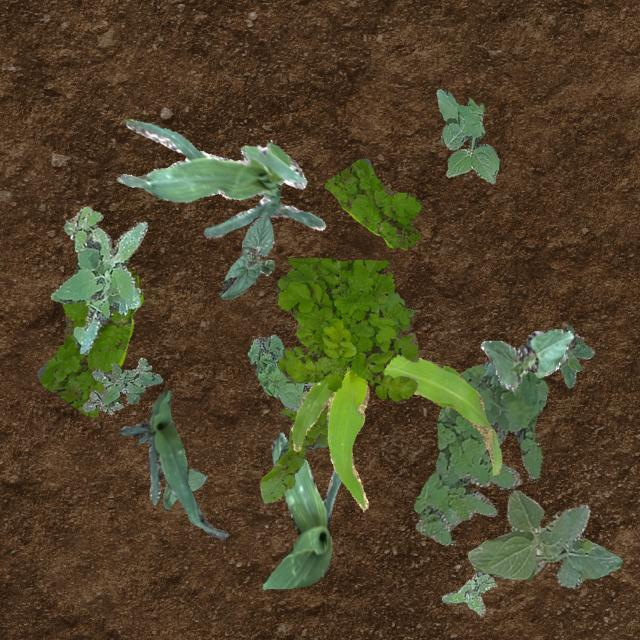crop: (290, 352, 500, 508), (115, 118, 324, 236), (118, 390, 226, 538), (466, 490, 622, 588), (262, 432, 341, 588), (480, 328, 574, 390), (218, 212, 274, 298), (162, 468, 206, 510), (278, 439, 324, 458)
weed: (412, 360, 546, 544), (274, 256, 418, 402), (36, 268, 142, 417), (50, 205, 146, 354), (324, 158, 421, 248), (258, 404, 328, 502), (436, 88, 498, 182), (246, 334, 312, 409), (82, 356, 162, 414), (441, 568, 496, 614), (558, 324, 594, 386)
